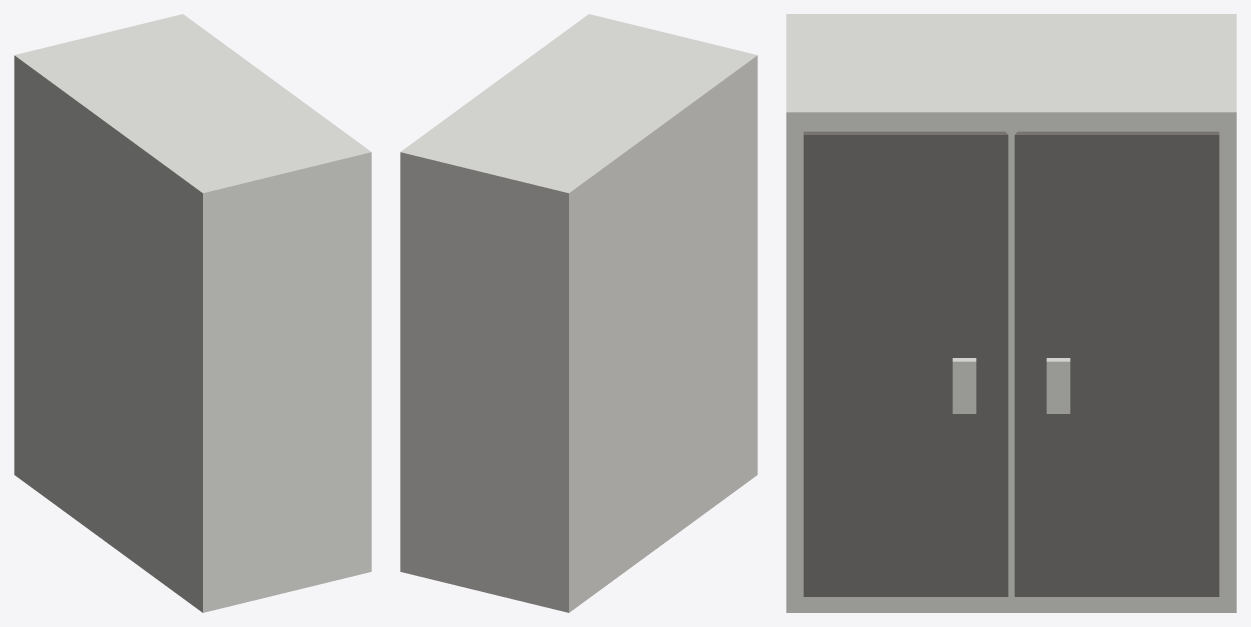
The model's file is kitchen_closet.fbx.
The picture shows the model from 3 angles, left to right: view 1: azimuth 30°, elevation 25°; view 2: azimuth 150°, elevation 25°; view 3: azimuth 270°, elevation 25°; orthographic projection. The views are drawn at different scales.
Visible parts, largest first — view 1: kitchen_closet; view 2: kitchen_closet; view 3: kitchen_closet.
Boxes of the visible parts, <box> form: kitchen_closet: <box>14,14,371,612</box>; kitchen_closet: <box>400,14,757,612</box>; kitchen_closet: <box>786,14,1236,612</box>.
Bounding box in the file's own units: 186 × 103 × 228.
